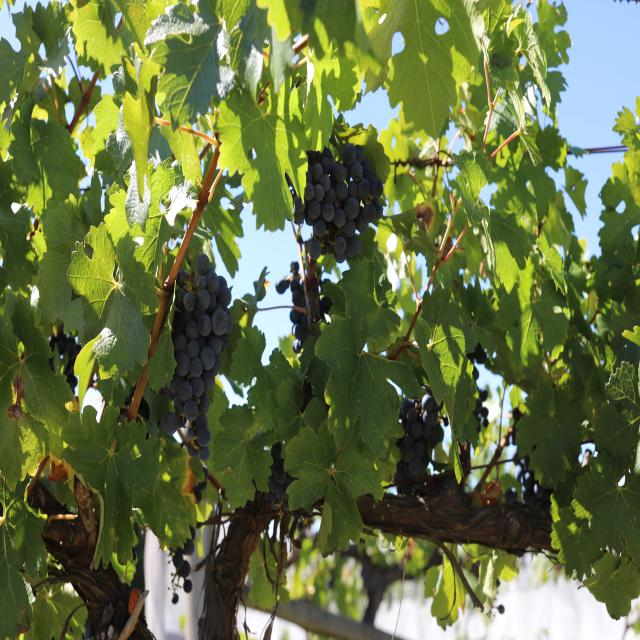grapes: (163, 253, 232, 461), (294, 143, 383, 262), (276, 255, 333, 353), (394, 393, 443, 484), (264, 441, 295, 510)
stem: (128, 142, 222, 422)
